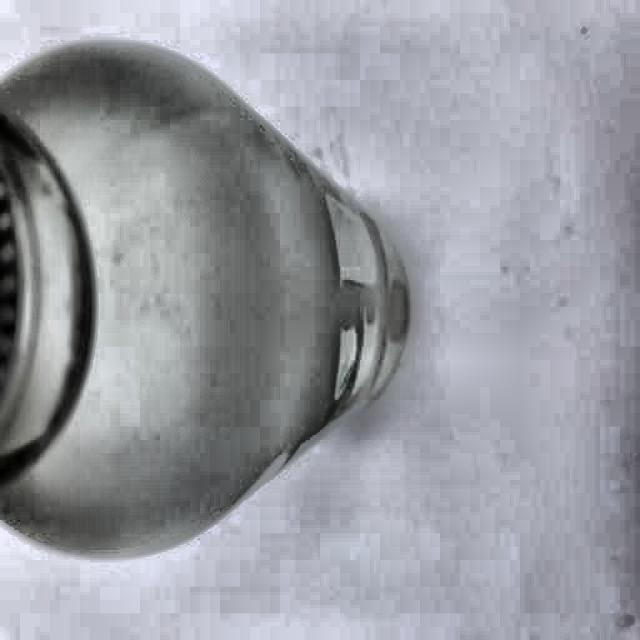glass: (0, 33, 414, 574)
